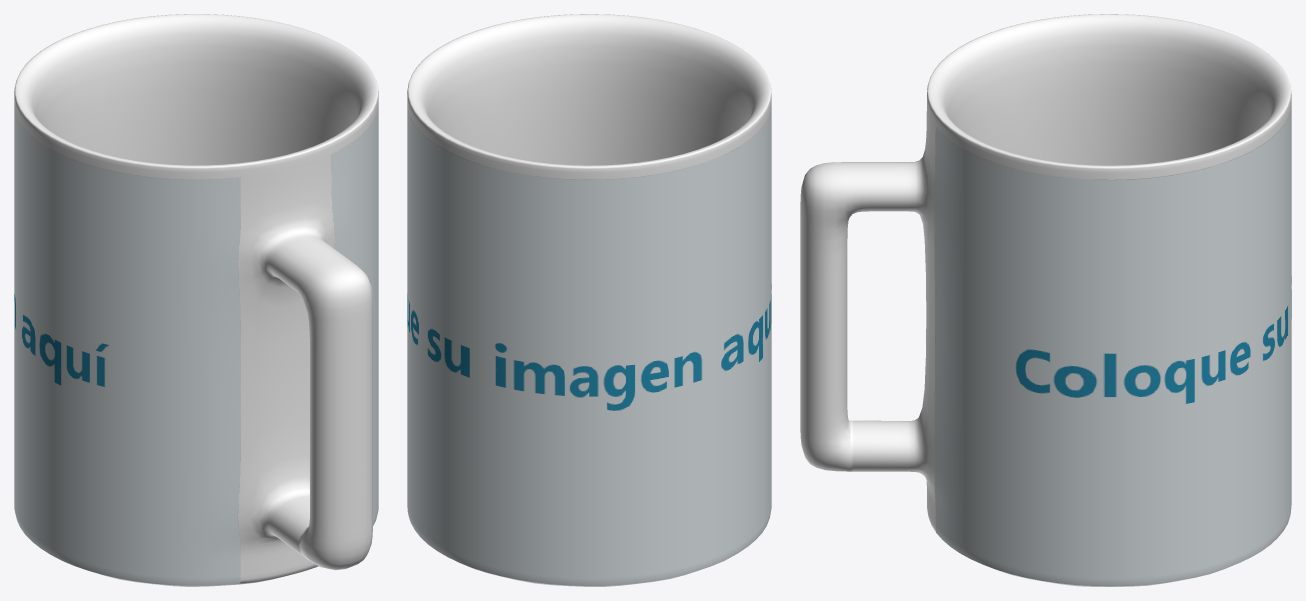
File: taza.gltf
The picture shows the model from 3 angles, left to right: view 1: azimuth 30°, elevation 25°; view 2: azimuth 150°, elevation 25°; view 3: azimuth 270°, elevation 25°; orthographic projection.
Visible parts, largest first — view 1: Cylinder.001, Cylinder; view 2: Cylinder.001, Cylinder; view 3: Cylinder.001, Cylinder.
Part boxes in pixels (x1=…): Cylinder.001: x1=14, y1=107, x2=378, y2=585; Cylinder: x1=14, y1=14, x2=378, y2=586; Cylinder.001: x1=407, y1=105, x2=771, y2=585; Cylinder: x1=407, y1=14, x2=771, y2=586; Cylinder.001: x1=934, y1=103, x2=1291, y2=586; Cylinder: x1=800, y1=14, x2=1291, y2=586.
Size of the model in its own units: 1.95 by 2.52 by 2.62.
Materials: 2 (2 with a texture image).
